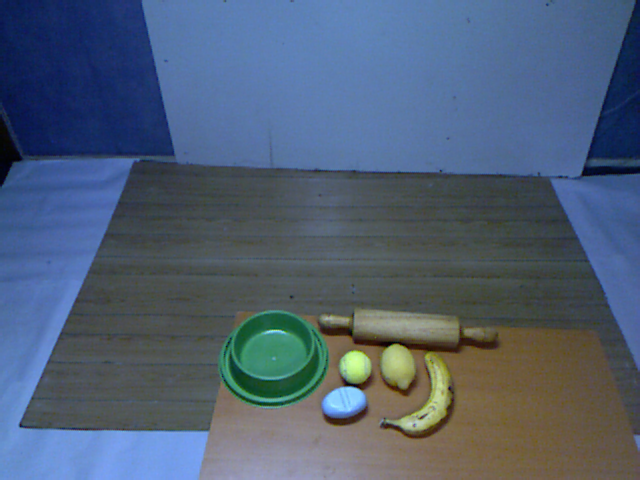jabon: (319, 382, 369, 427)
limon: (376, 340, 420, 395)
pelota: (334, 349, 375, 386)
platano: (379, 347, 465, 443)
platoperro: (218, 306, 328, 408)
uslero: (314, 299, 500, 351)
